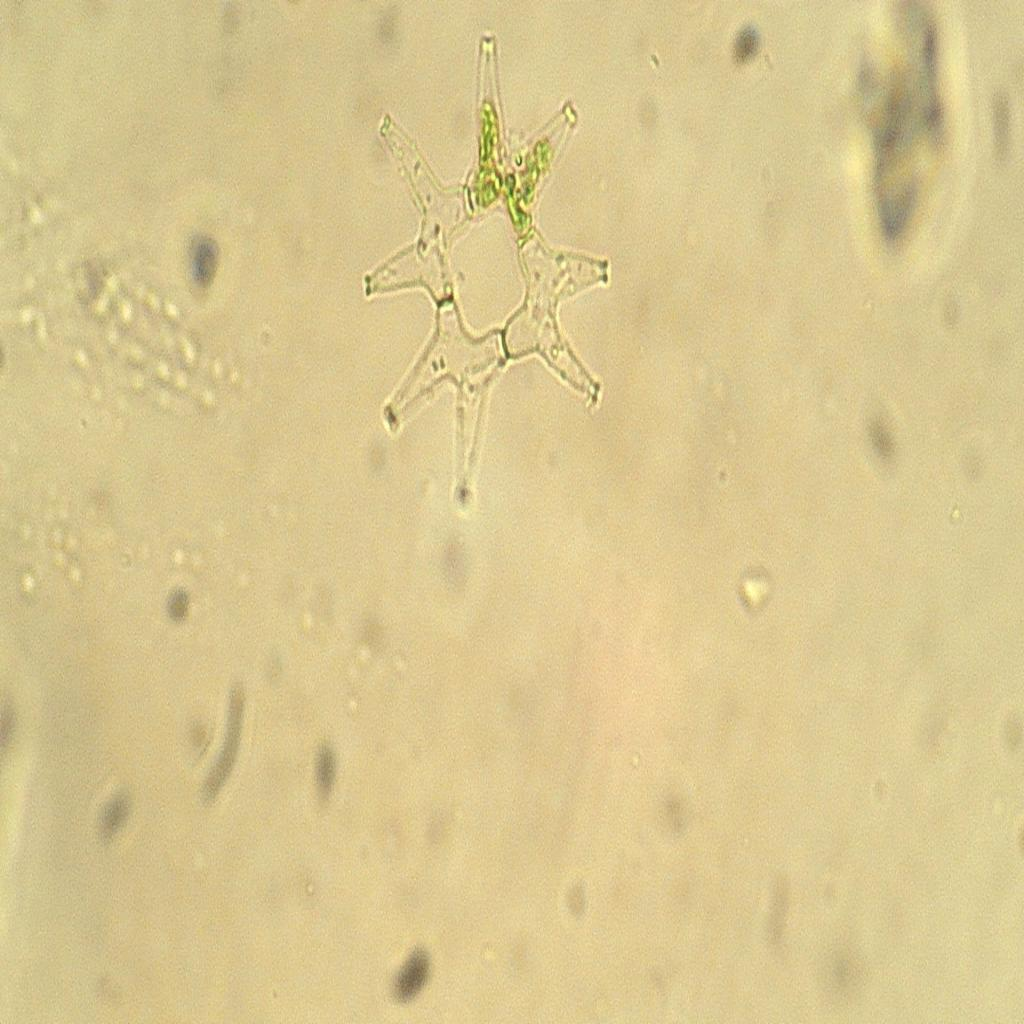Pediastrum_75TH: (338, 17, 622, 522)
